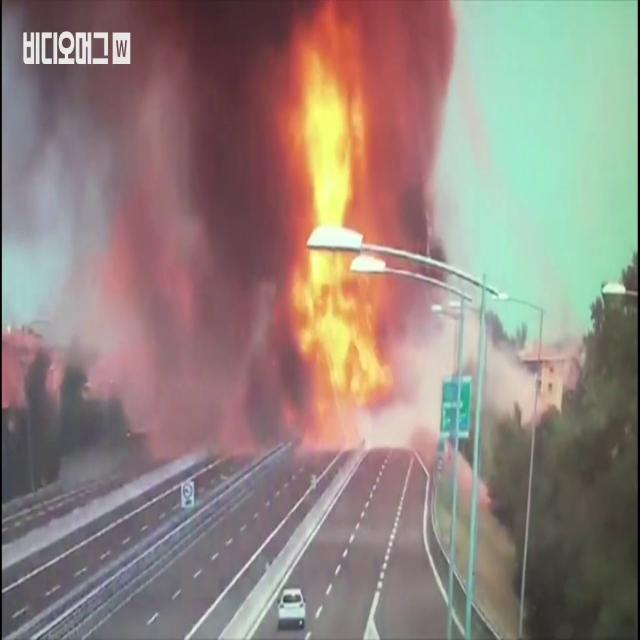explosion: (178, 49, 488, 456)
